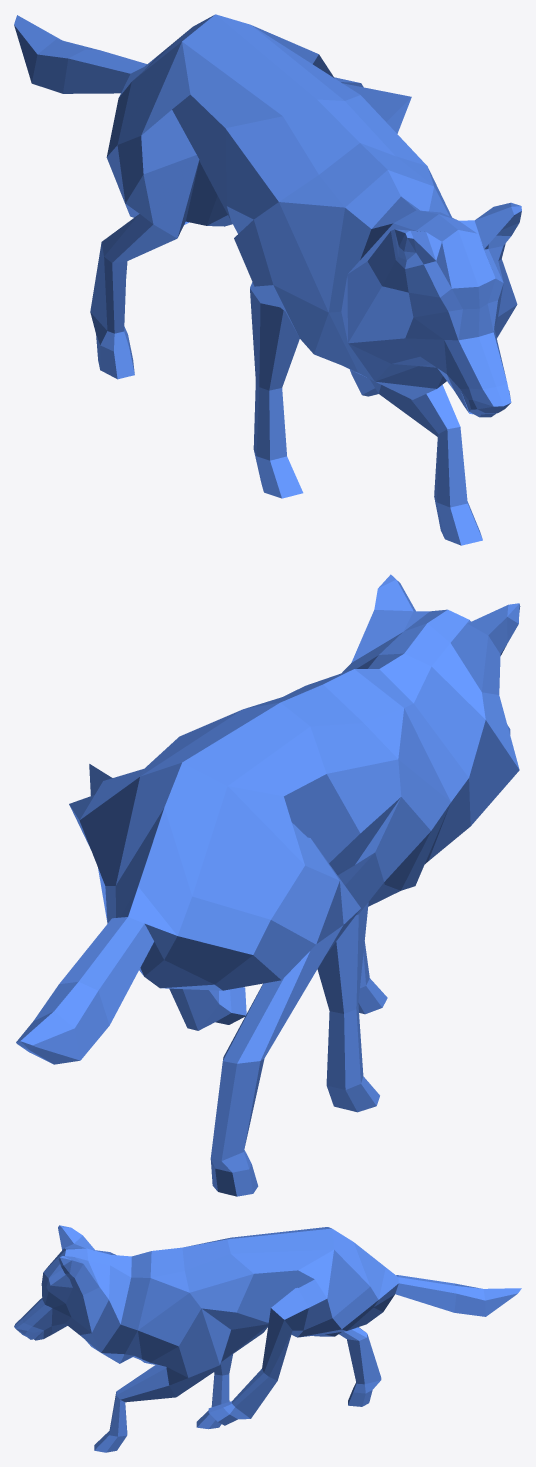
Rendered from wolfRunA_v009009.obj.
3 views of the same model, one above another, from view 1: azimuth 30°, elevation 25°; view 2: azimuth 150°, elevation 25°; view 3: azimuth 270°, elevation 25° (orthographic). The views are drawn at different scales.
Parts seen in each view (by area): view 1: comp_wolf_rig:wolf_body comp_wolf_rig:wolf; view 2: comp_wolf_rig:wolf_body comp_wolf_rig:wolf; view 3: comp_wolf_rig:wolf_body comp_wolf_rig:wolf.
Part boxes in pixels (<box>): comp_wolf_rig:wolf_body comp_wolf_rig:wolf: <box>14,14,521,545</box>; comp_wolf_rig:wolf_body comp_wolf_rig:wolf: <box>16,574,520,1196</box>; comp_wolf_rig:wolf_body comp_wolf_rig:wolf: <box>14,1225,521,1452</box>.
Bounding box in the file's own units: 43.2 × 63.17 × 139.
